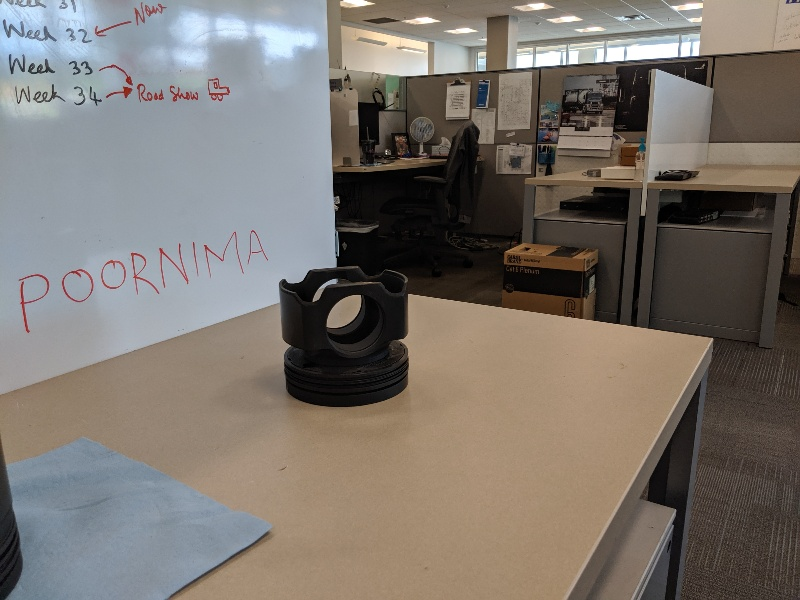piston: (275, 260, 415, 413)
